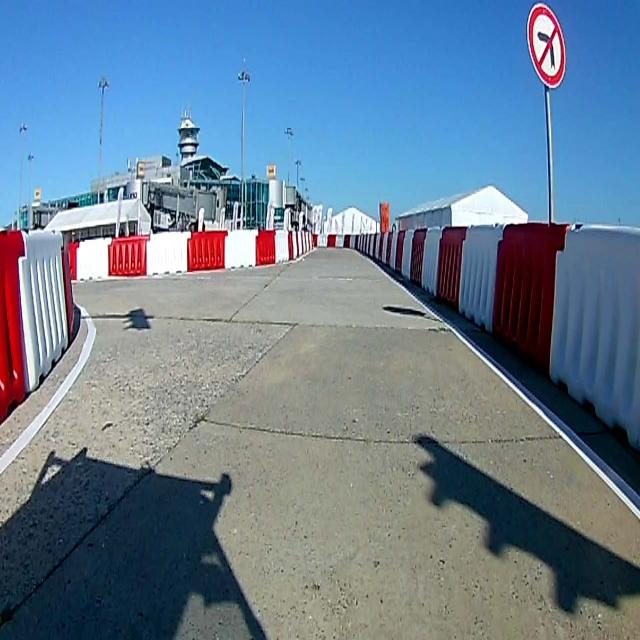soladonulmez: (528, 5, 565, 86)
